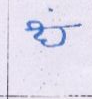anusvara: (49, 8, 53, 12)
